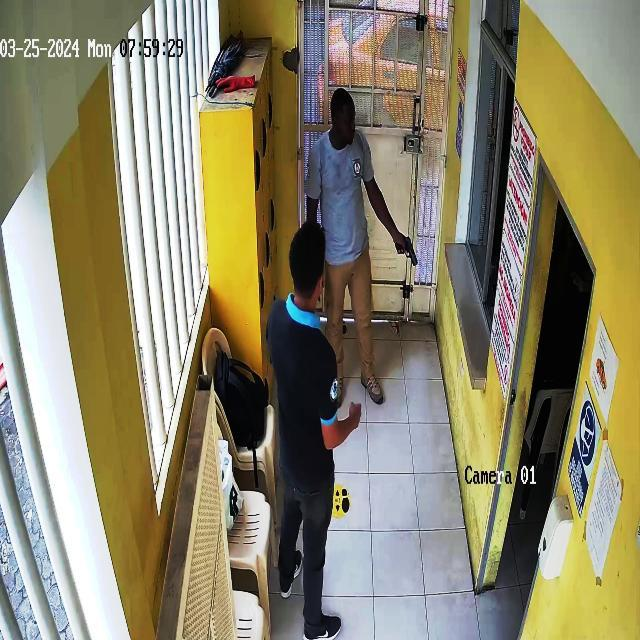Gun: (398, 231, 430, 272)
